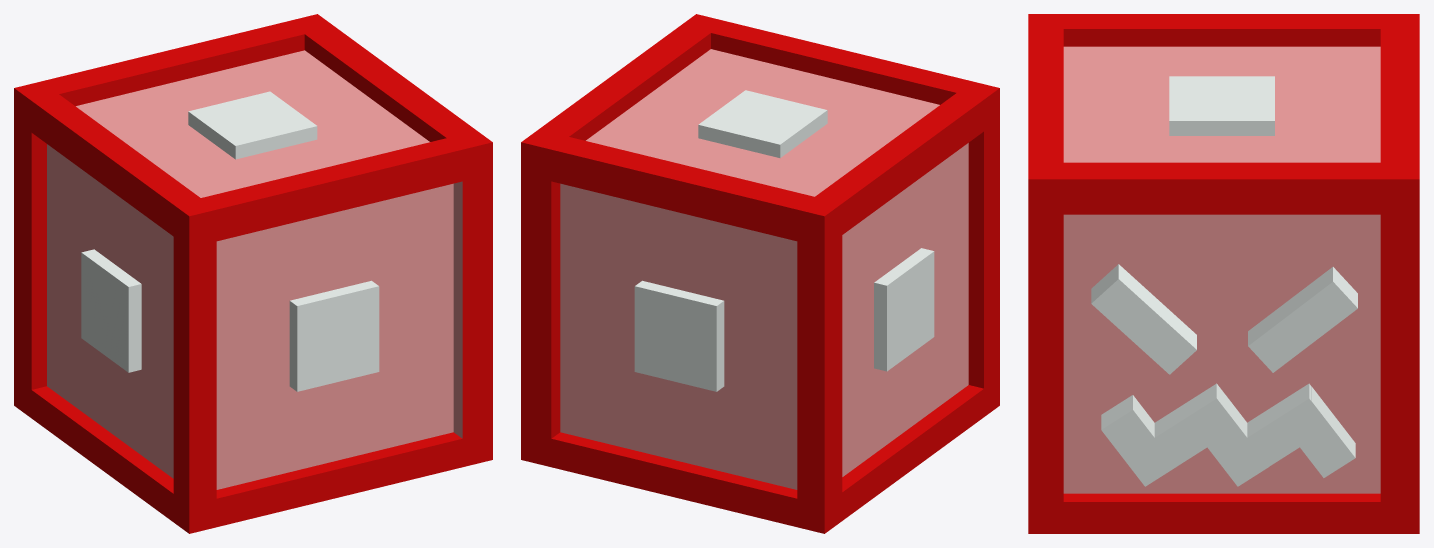
File: GGRed.fbx
3 renders of one model, left to right at view 1: azimuth 30°, elevation 25°; view 2: azimuth 150°, elevation 25°; view 3: azimuth 270°, elevation 25°, orthographic. The views are drawn at different scales.
Parts seen in each view (by area): view 1: Body; view 2: Body; view 3: Body, Cube.003, Cube.002, Cube.007, Cube.006, Cube.004, Cube.005, Cube.008.
Boxes of the visible parts, bbox=[...] form: Body: bbox=[14, 14, 492, 533]; Body: bbox=[521, 14, 999, 533]; Body: bbox=[1028, 14, 1419, 533]; Cube.003: bbox=[1248, 267, 1357, 372]; Cube.002: bbox=[1091, 264, 1196, 374]; Cube.007: bbox=[1154, 383, 1238, 466]; Cube.006: bbox=[1101, 395, 1176, 486]; Cube.004: bbox=[1280, 386, 1355, 477]; Cube.005: bbox=[1194, 395, 1269, 486]; Cube.008: bbox=[1246, 383, 1330, 466].
Size of the model in its own units: 208 by 200 by 200.
